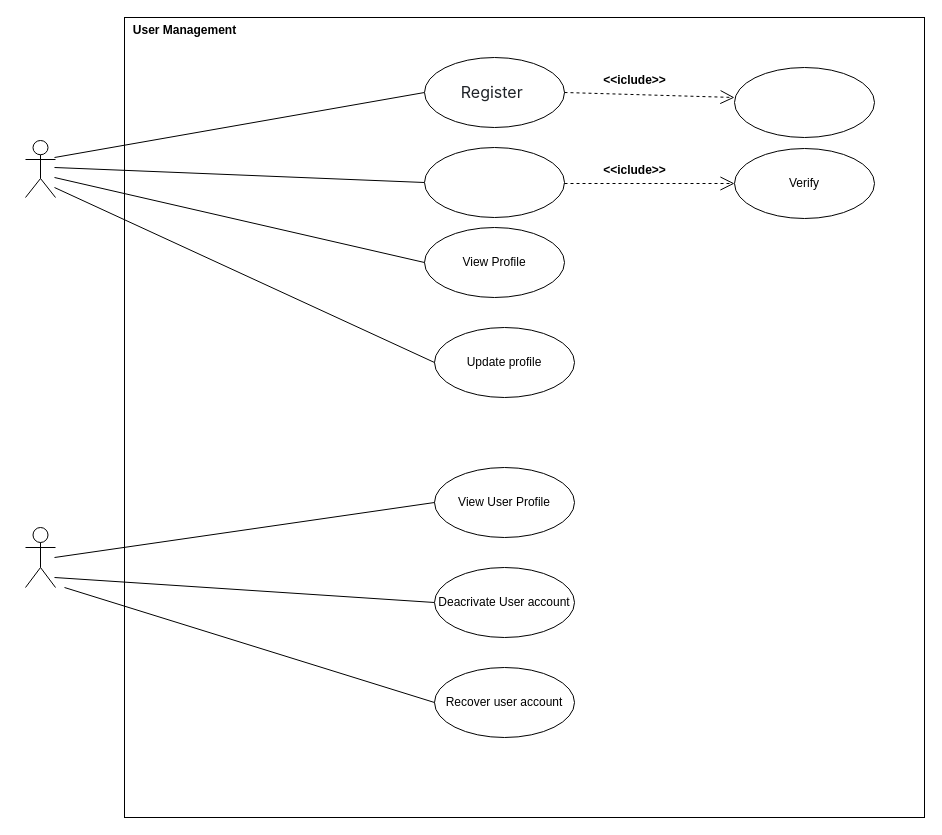
Some shapes in this 942 by 835 pixel diagram are drawn without their labels. The shapes that lost their labels are listed below. From the top down, each one's centre as x and y in pixels, then its label:
At point 804,102: "Validate".
At point 40,169: "Client".
At point 494,182: "Login".
At point 40,557: "Manager".
